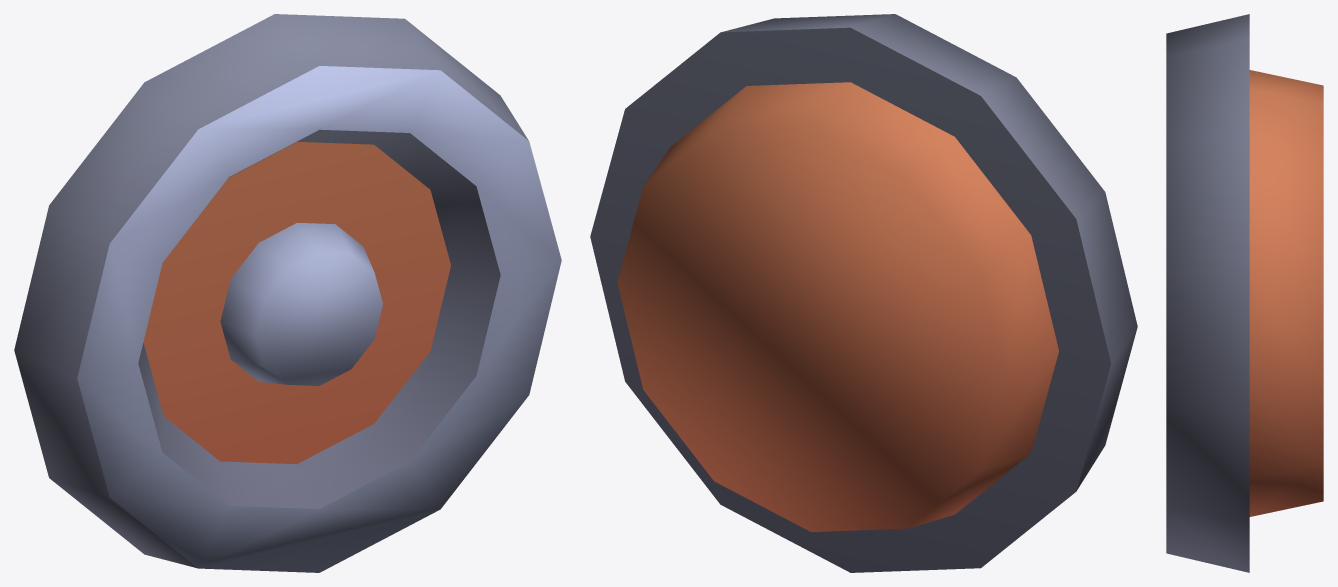
File: shield-round.obj
3 renders of one model, left to right at view 1: azimuth 30°, elevation 25°; view 2: azimuth 150°, elevation 25°; view 3: azimuth 270°, elevation 25°, orthographic. The views are drawn at different scales.
Visible parts, largest first — view 1: shield-round; view 2: shield-round; view 3: shield-round.
Boxes of the visible parts, x1,y1,x2,y2 form: shield-round: (14, 14, 561, 572); shield-round: (590, 14, 1137, 572); shield-round: (1166, 14, 1323, 572).
Size of the model in its own units: 0.3797 by 0.3797 by 0.1065.
1 material, 1 textured.
